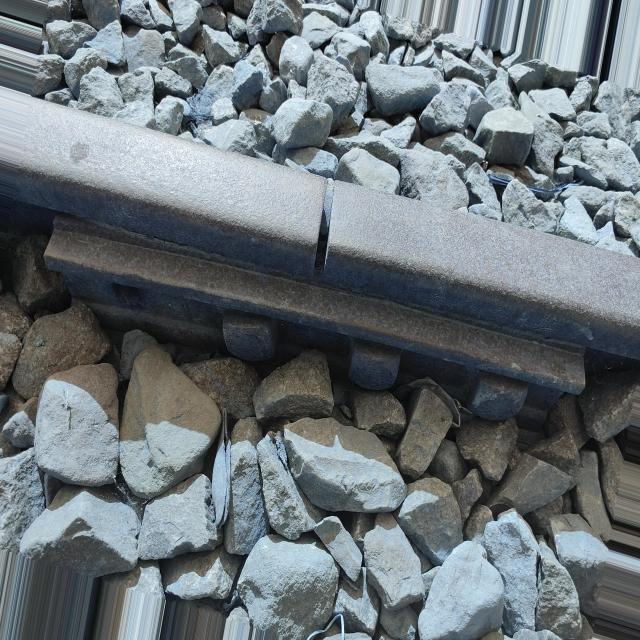Good Joint: (14, 100, 640, 391)
